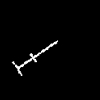double_crochet: (12, 41, 57, 75)
